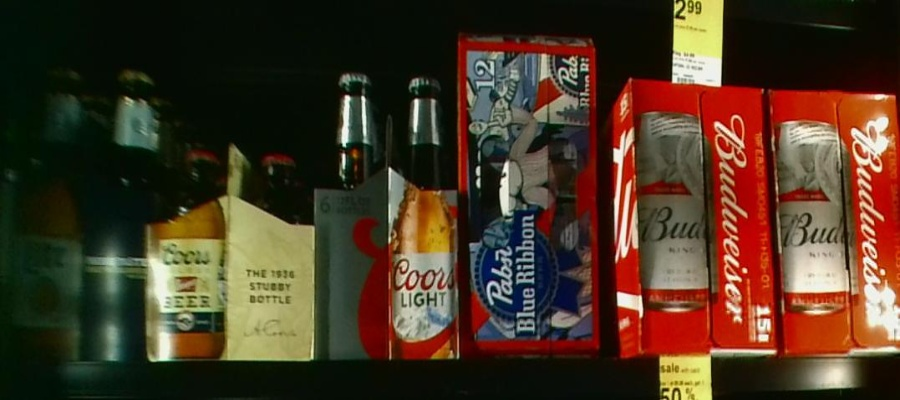bottle: (459, 33, 604, 356), (608, 77, 777, 353), (317, 71, 462, 362), (154, 148, 315, 360), (770, 87, 900, 349), (18, 65, 81, 361), (84, 64, 145, 359)
